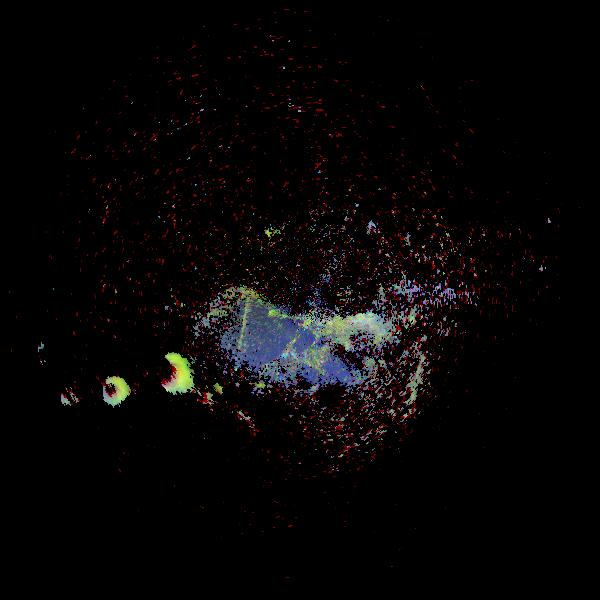roost: (133, 337, 202, 406), (83, 361, 140, 418), (55, 379, 91, 415)
